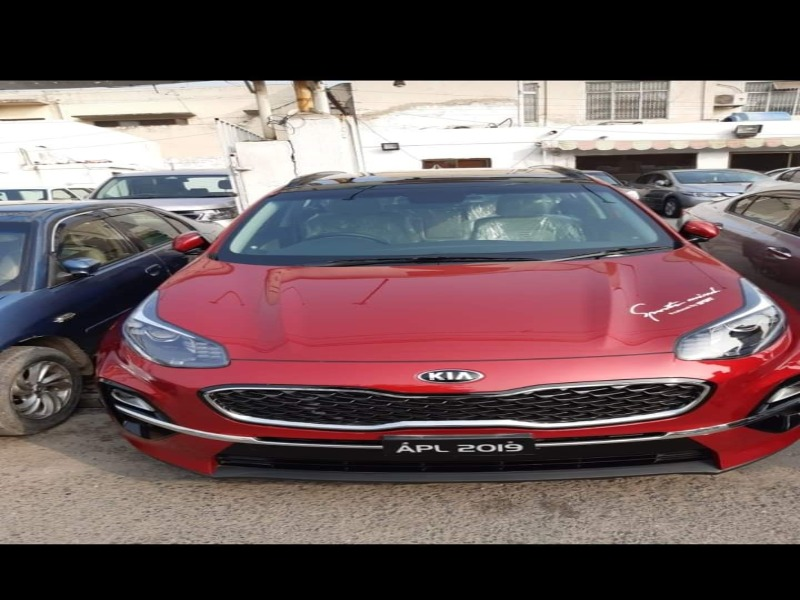License Plate: (377, 433, 541, 461)
